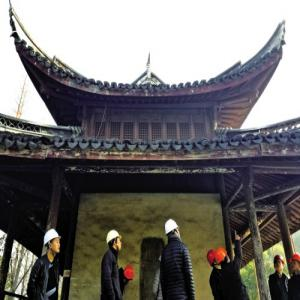red: (215, 247, 231, 268), (273, 254, 286, 273), (291, 254, 300, 273)
white: (44, 226, 62, 257), (164, 218, 182, 244), (107, 229, 124, 255)
